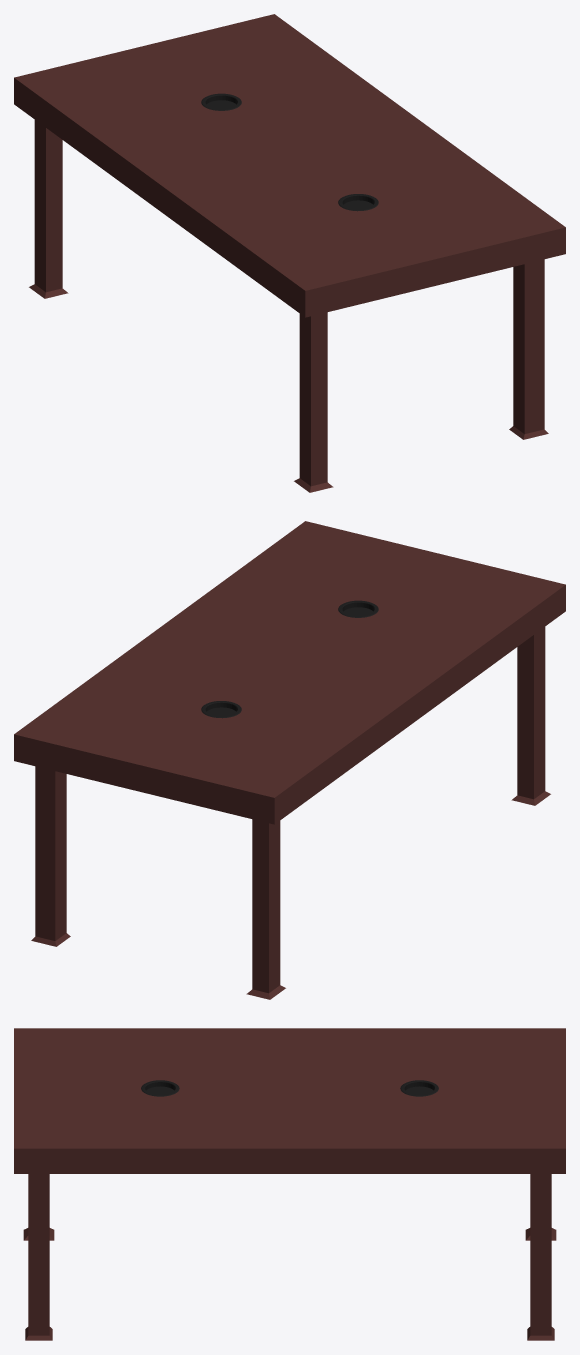
Rendered from BLS_MeetingTable_Shanna.fbx.
3 views of the same model, one above another, from view 1: azimuth 30°, elevation 25°; view 2: azimuth 150°, elevation 25°; view 3: azimuth 270°, elevation 25° (orthographic). The views are drawn at different scales.
Parts seen in each view (by area): view 1: Cube; view 2: Cube; view 3: Cube.
Boxes of the visible parts, x1,y1,x2,y2 form: Cube: [14, 14, 565, 492]; Cube: [14, 521, 565, 999]; Cube: [14, 1028, 565, 1340].
Bounding box in the file's own units: 505 × 387 × 979.
